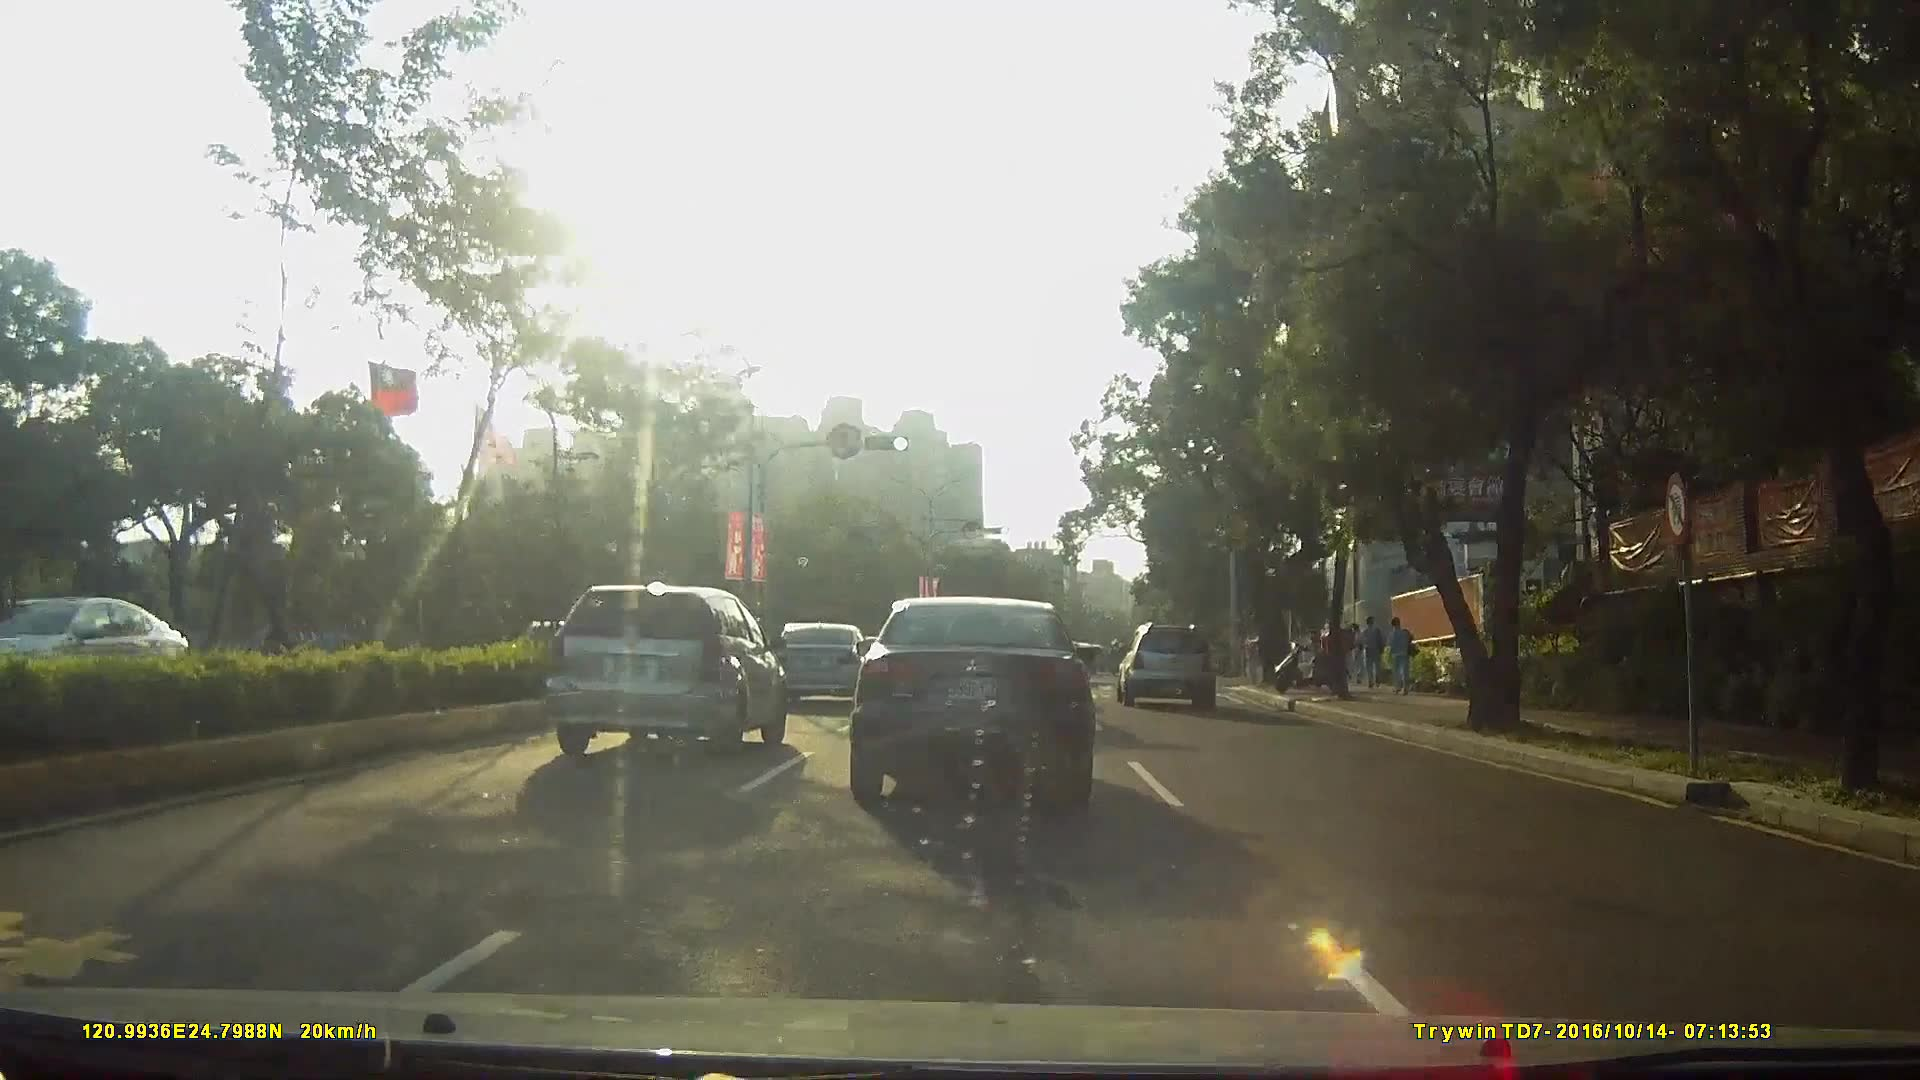pedestrian: (1385, 616, 1417, 699), (1360, 611, 1389, 691)
vehicle: (845, 594, 1092, 812), (541, 580, 788, 758), (1, 590, 205, 705), (1113, 622, 1227, 712), (773, 618, 877, 709)
